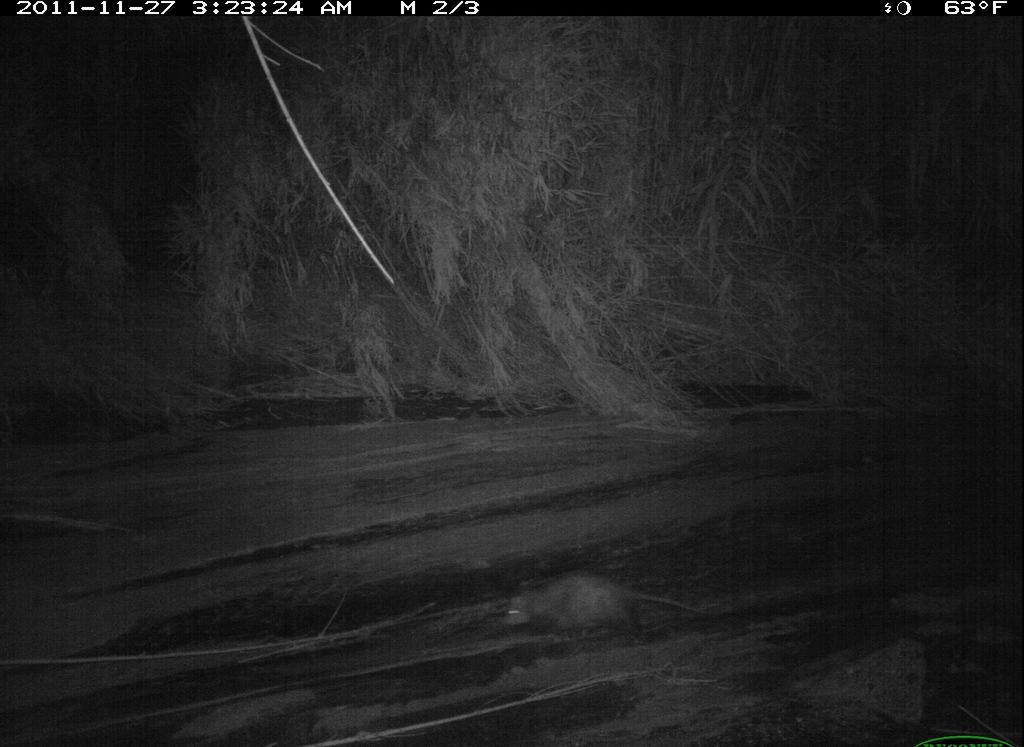opossum: (506, 571, 716, 665)
